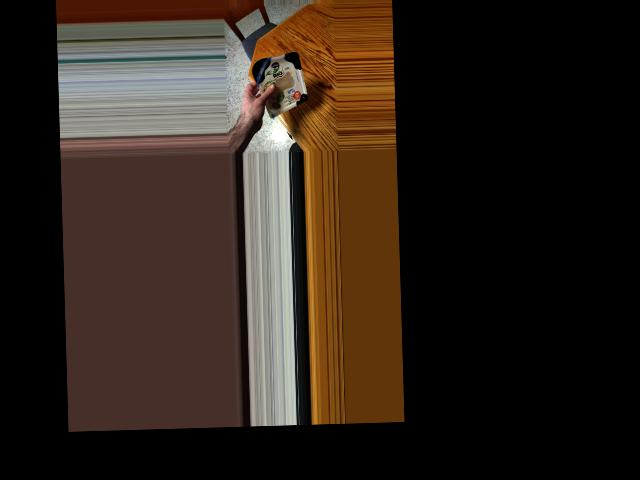cheese: (253, 53, 306, 108)
